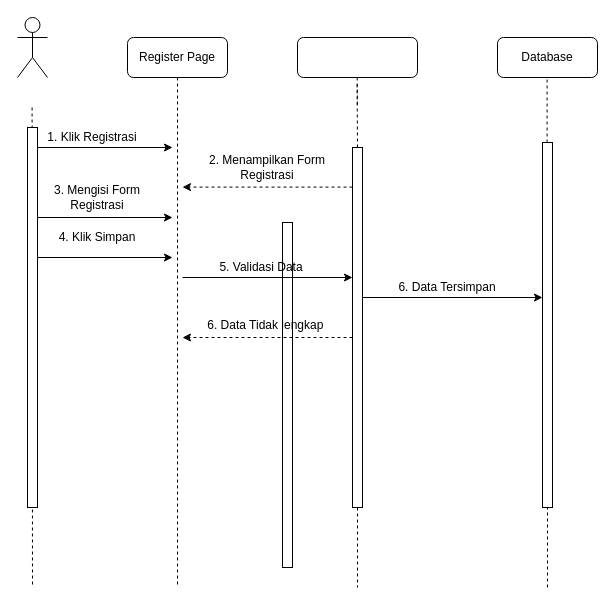
Image size: 615x606. Some labels were removed from this diagram. Each missing label, with the centre of its shape:
Sistem: (357,57)
User: (32,47)
